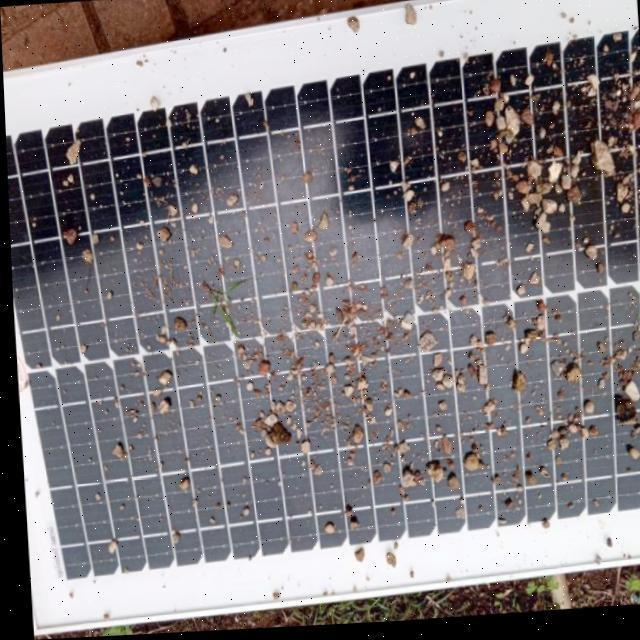Surface Contaminant: (26, 50, 640, 576), (3, 63, 640, 570)
